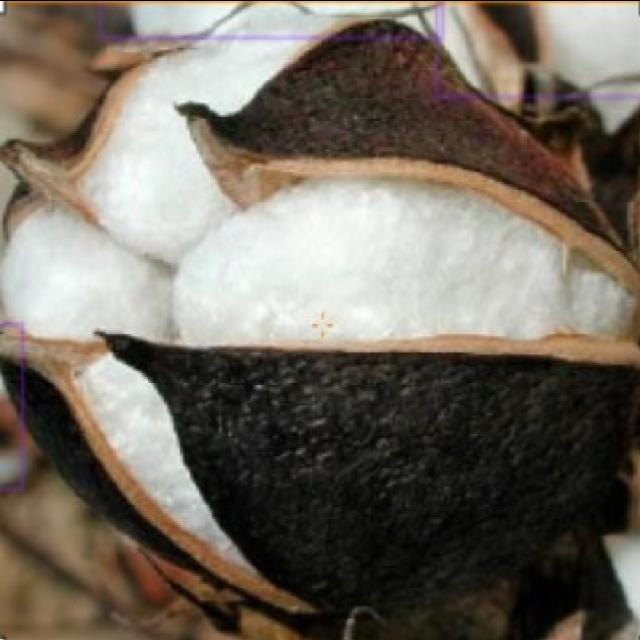Split Cotton Boll: (0, 10, 622, 611)
